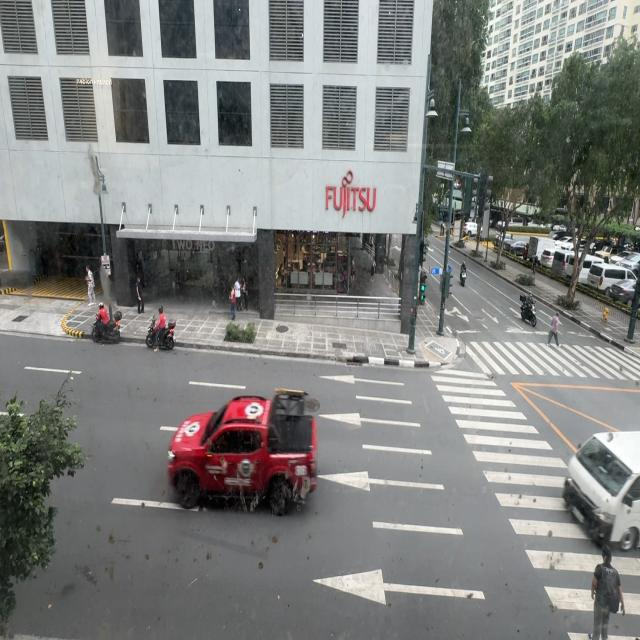crossing: (589, 545, 624, 639), (548, 310, 563, 346)
